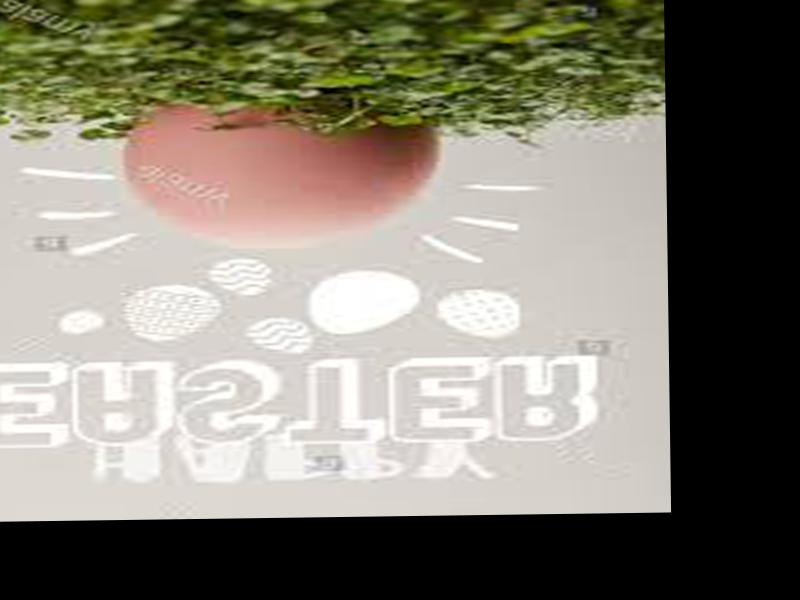Eggs: (128, 100, 446, 247)
